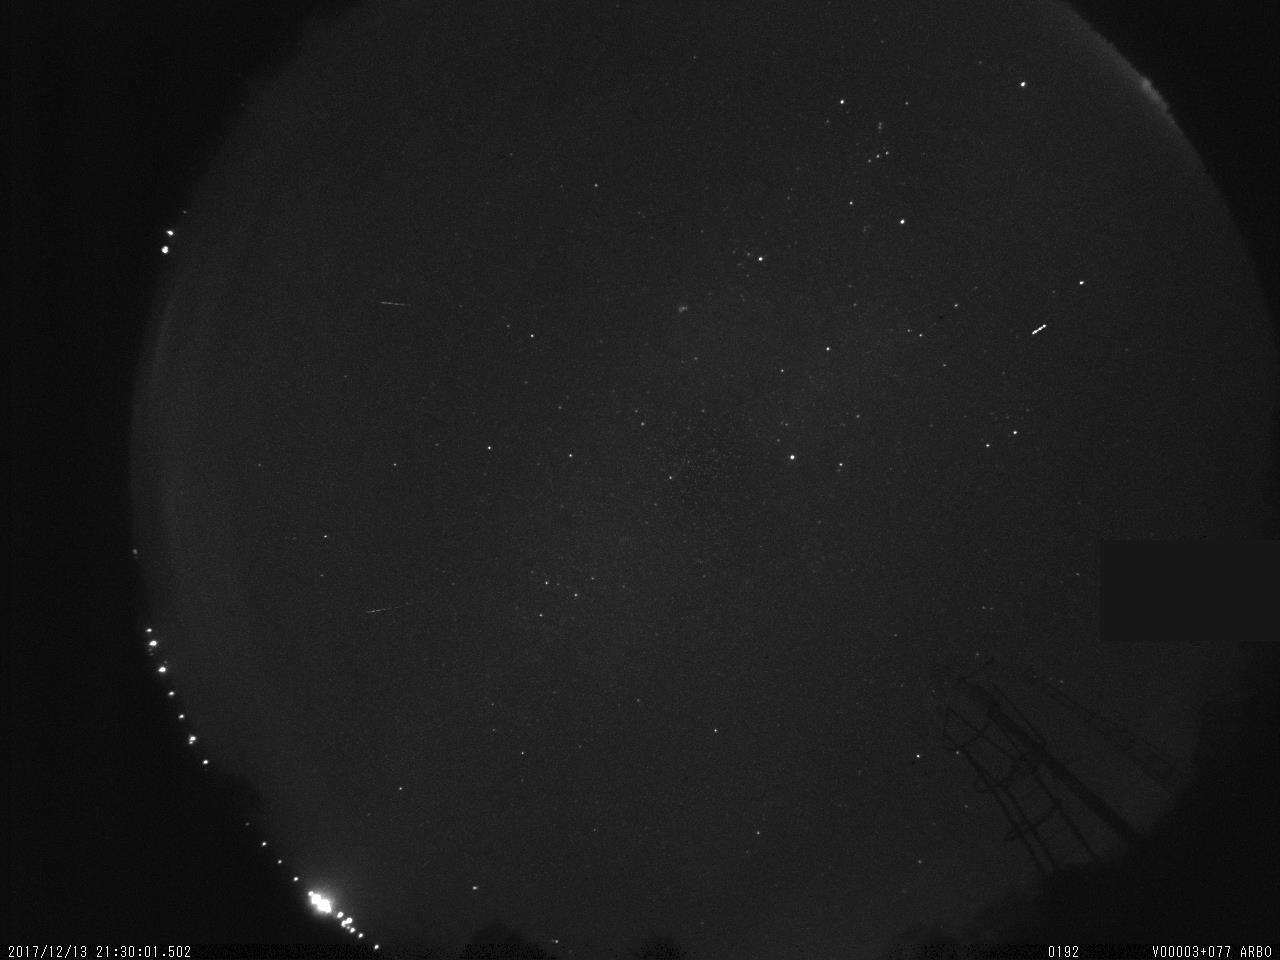satelite: (1026, 316, 1053, 342)
